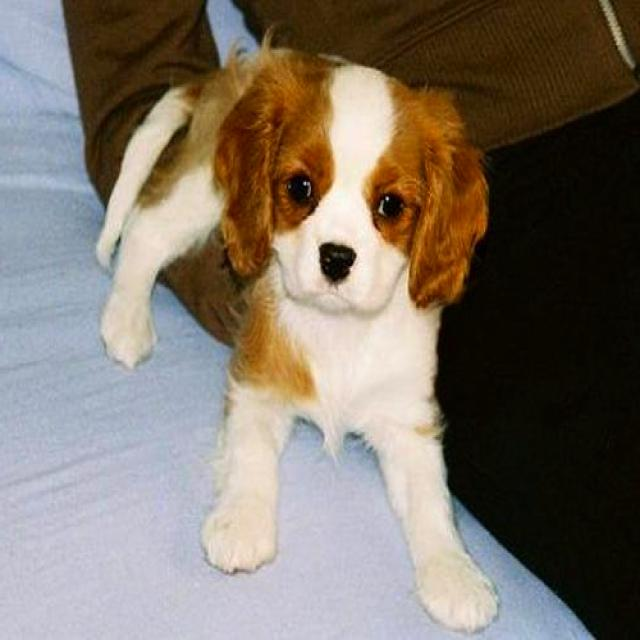blenheim_spaniel: (92, 26, 506, 638)
